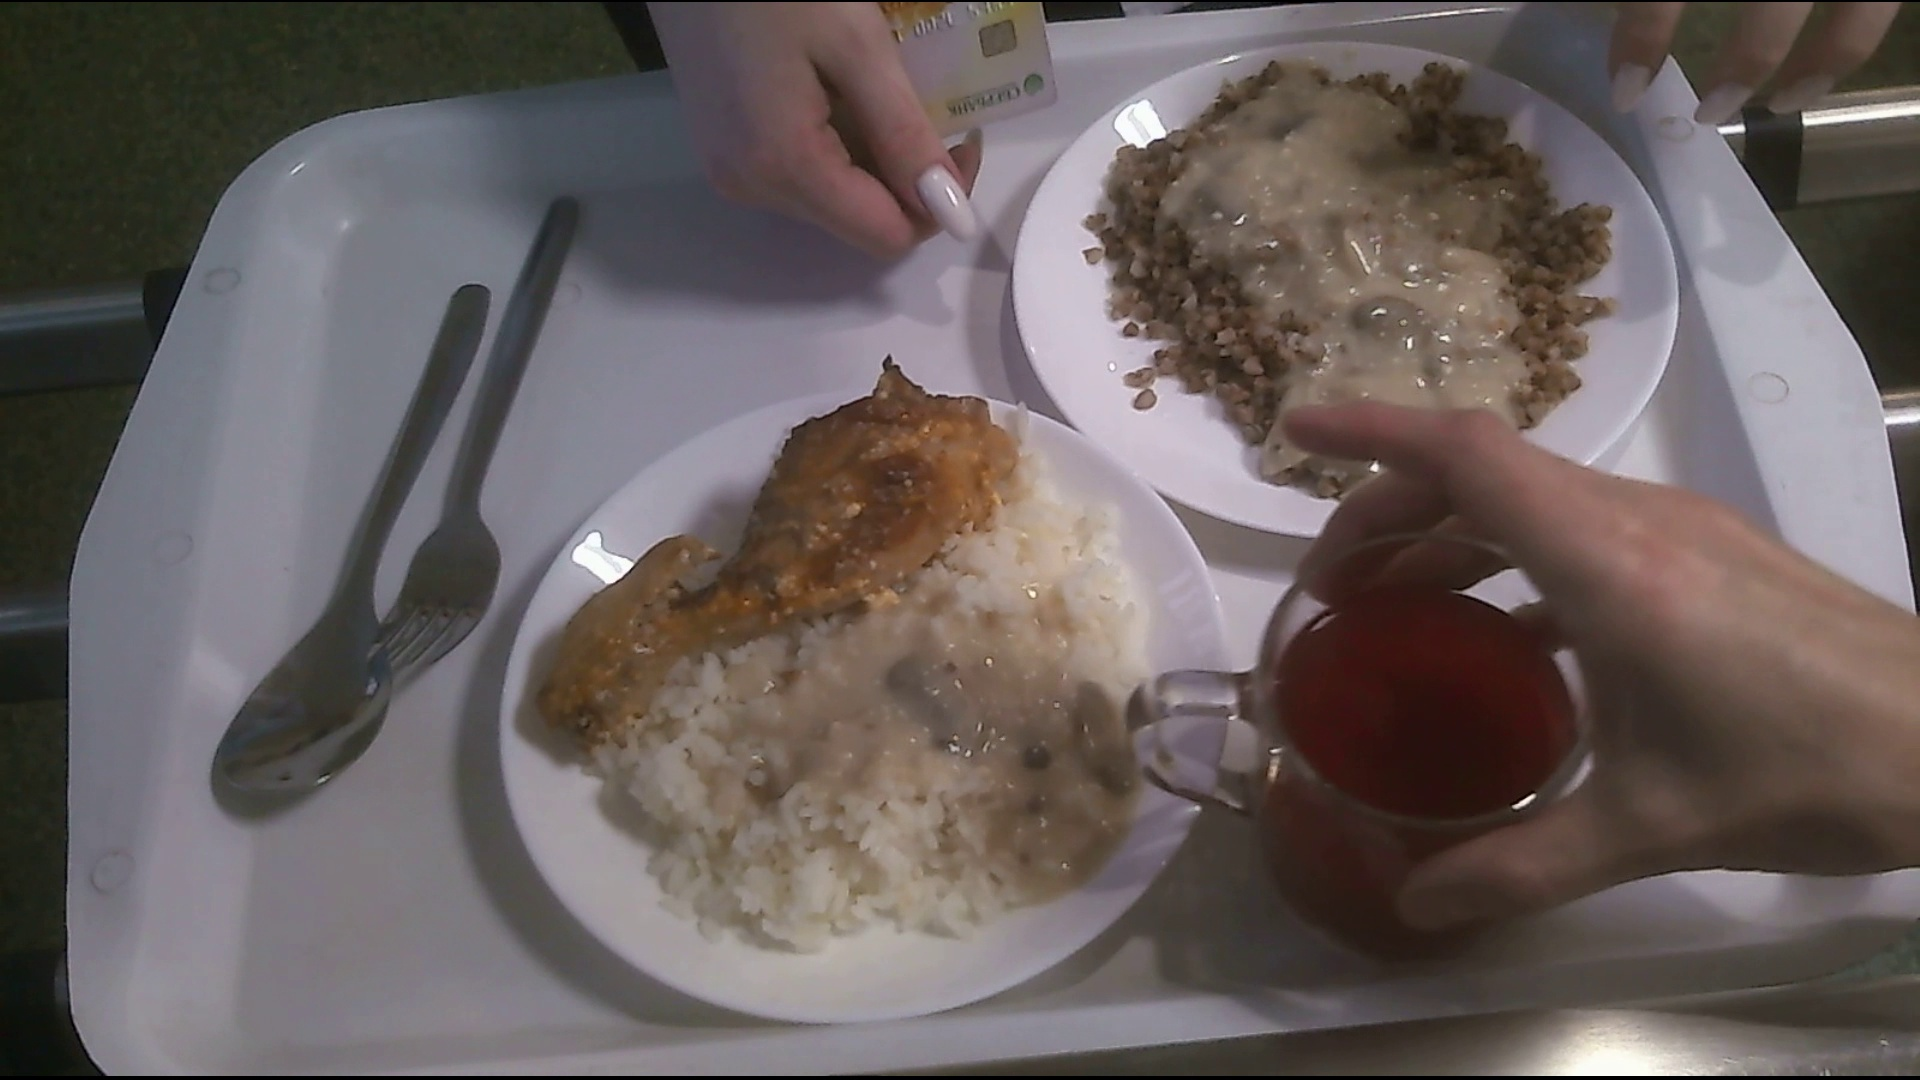cutlery: (214, 255, 483, 825), (385, 199, 579, 707)
drink: (1133, 541, 1635, 947)
plate: (508, 400, 1226, 1015), (1025, 44, 1673, 522)
